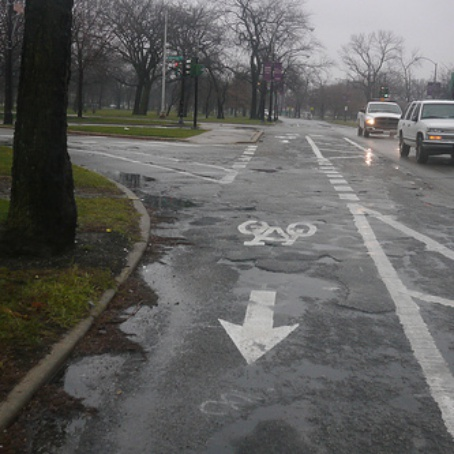car: (397, 96, 454, 163), (354, 97, 399, 140)
street: (113, 135, 454, 454)
vegetation: (1, 1, 324, 111)
